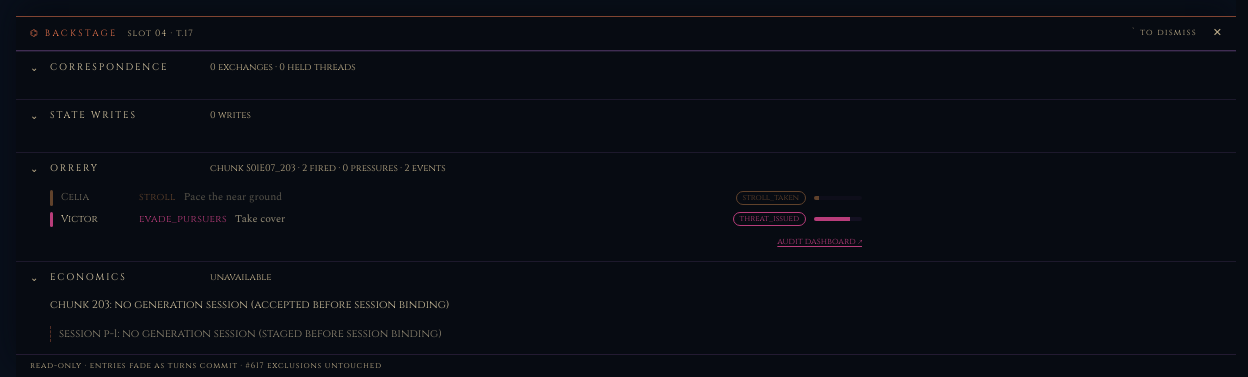
Test case: Backstage elapsed time and observation › keeps the other sections usable when a pending draft has no bound session
expect the element with test id "backstage-economics-pending" reads "session p-1: no generation session (staged before session binding)": met, box [59, 326, 442, 340]
expect the text "stroll" is shown: met, box [139, 190, 176, 205]
Click the button "⌄ ECONOMICS unavailable" at (88, 278), box [16, 261, 1236, 295]
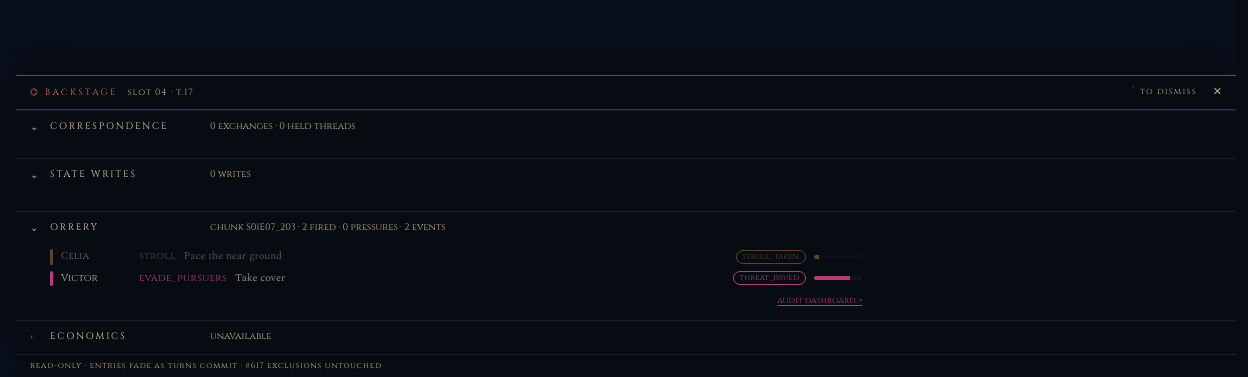
expect the text "stroll" is shown: met, box [139, 249, 176, 264]
expect the element with test id "backstage-economics-pending" is gone: met
Click the button "› ECONOMICS unavailable" at (88, 337), box [16, 320, 1236, 354]
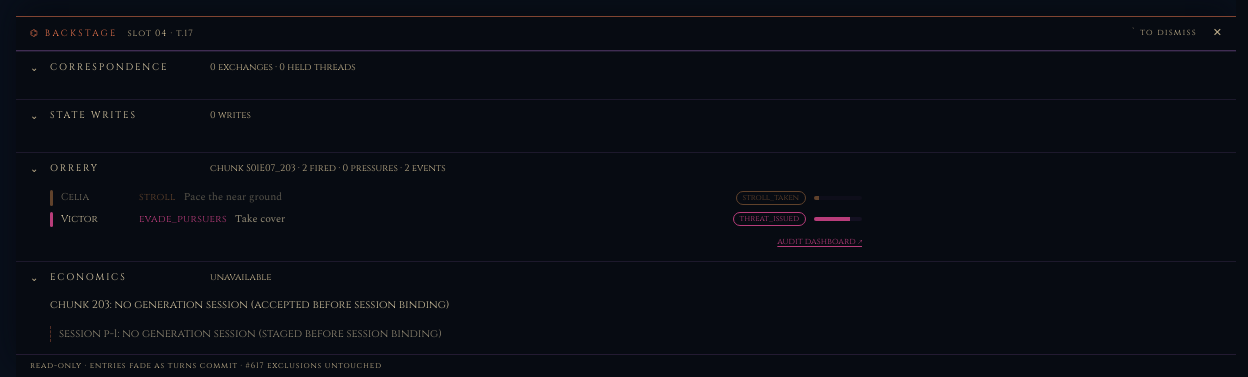
expect the element with test id "backstage-economics-pending" reads "session p-1: no generation session (staged before session binding)": met, box [59, 326, 442, 340]
